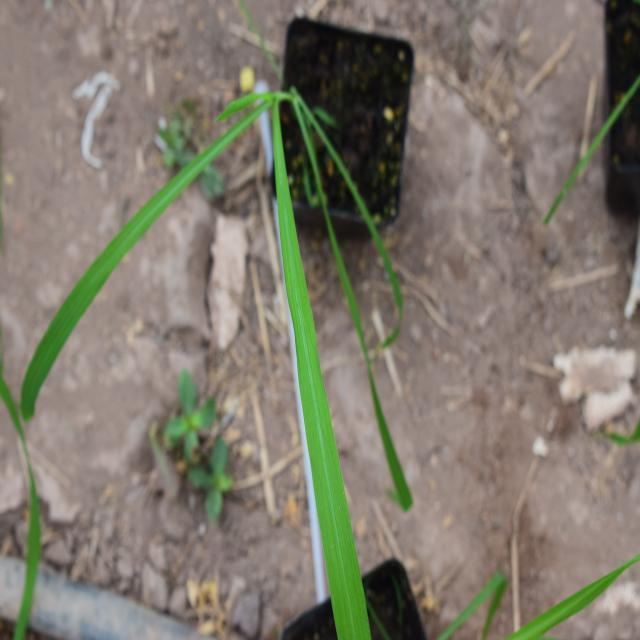barnyard_grass: (32, 73, 418, 619)
